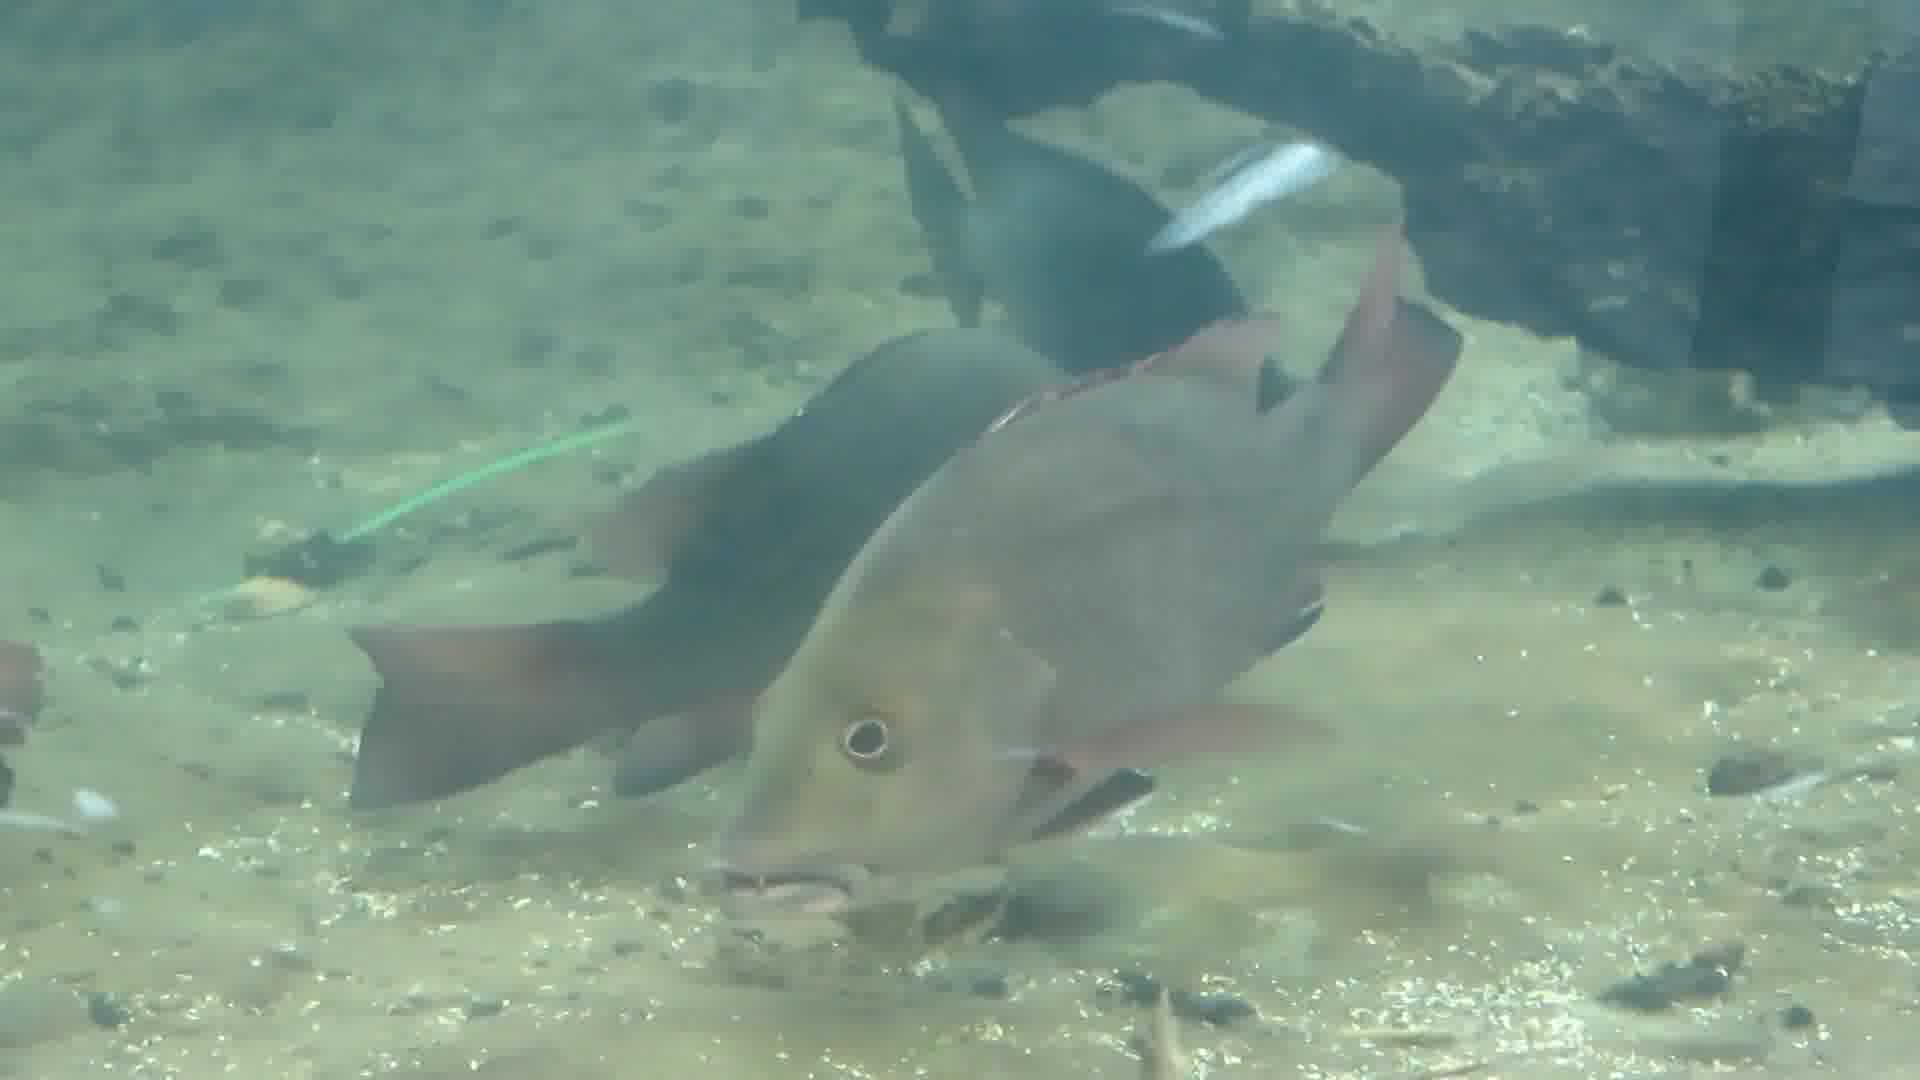Lutjanus argentimaculatus: (709, 339, 1381, 914)
